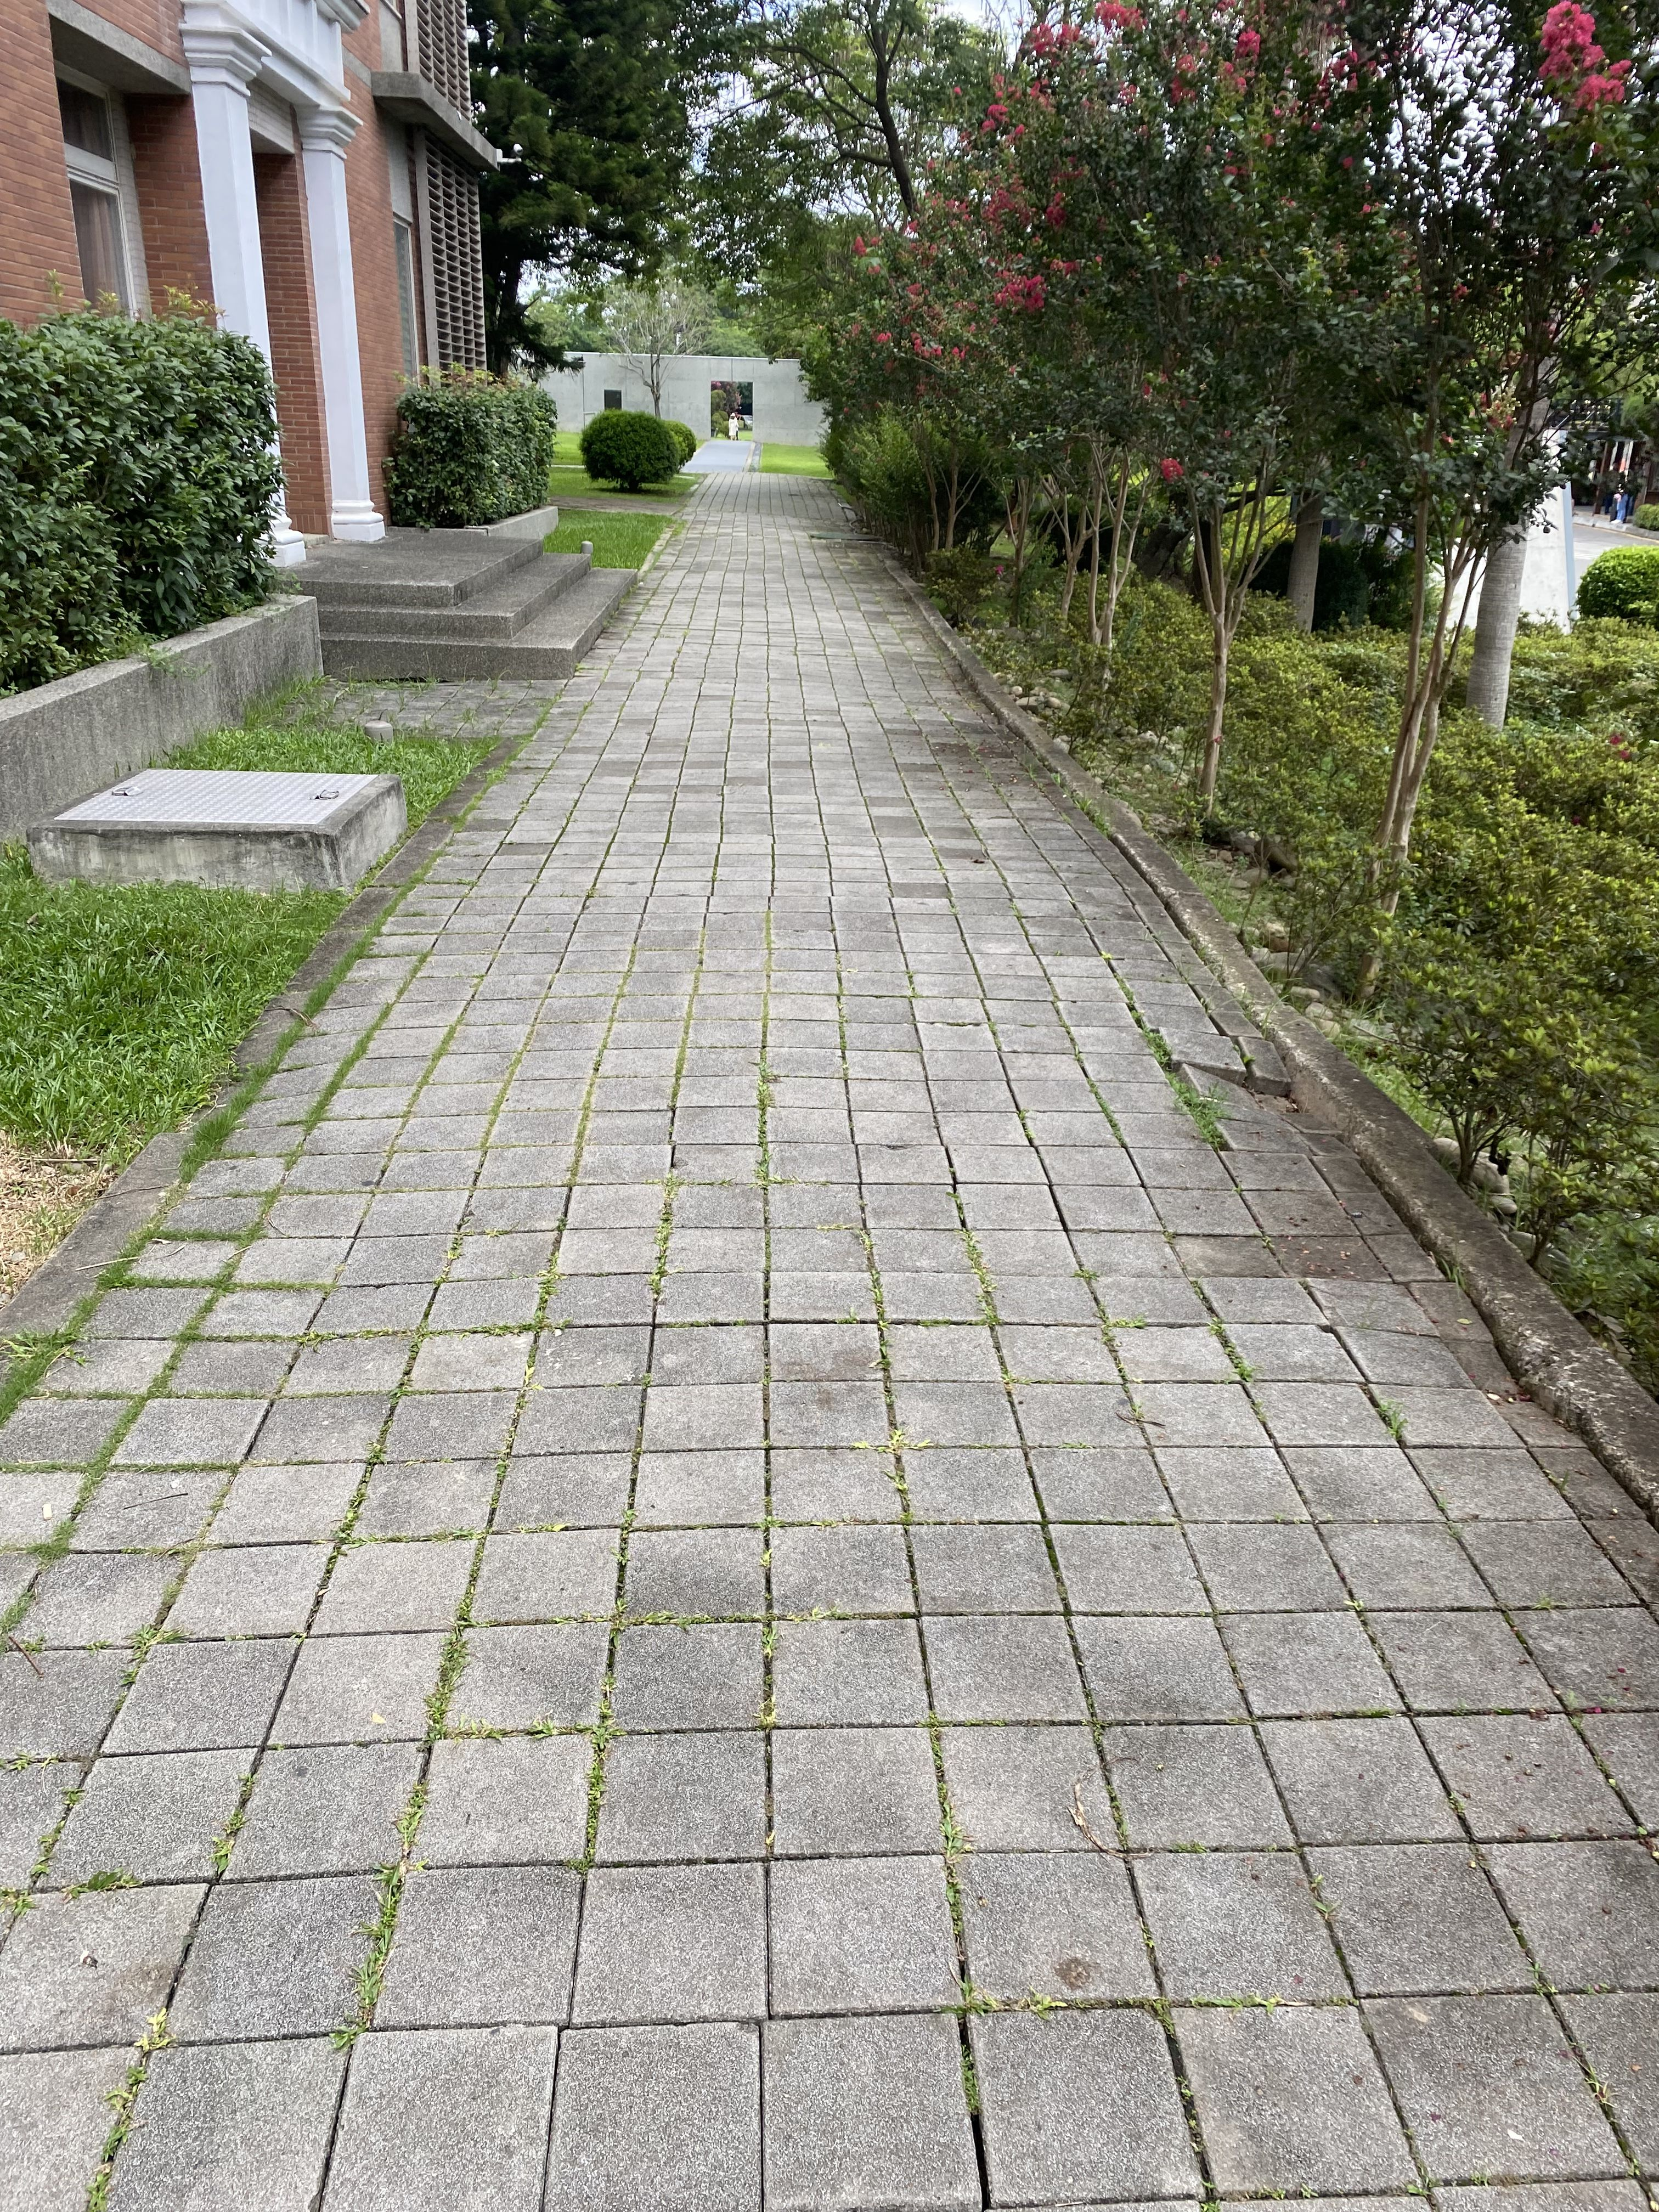0: (19, 679, 1659, 2212)
sidewalk: (606, 428, 1098, 1550)
